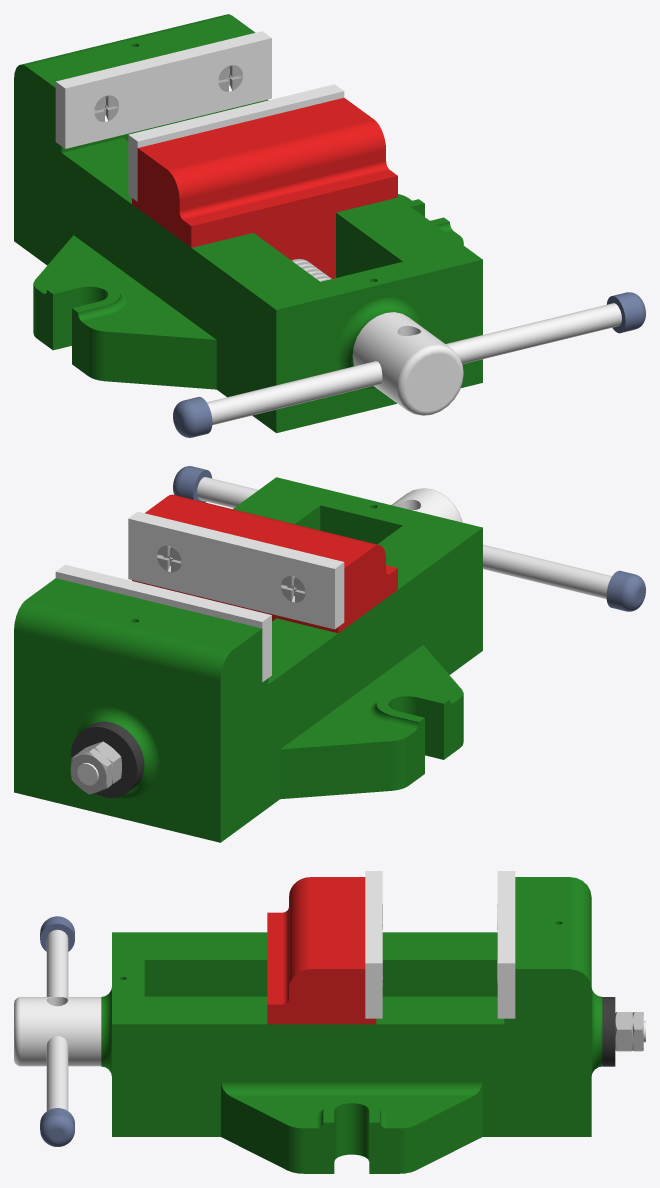
The picture shows the model from 3 angles, top to bottom: view 1: azimuth 30°, elevation 25°; view 2: azimuth 150°, elevation 25°; view 3: azimuth 270°, elevation 25°; orthographic projection. The views are drawn at different scales.
Visible parts, largest first — view 1: Solid2 (×8); view 2: Solid2 (×11); view 3: Solid2 (×11).
Part boxes in pixels (<box>): Solid2 (×8): <box>14,14,645,437</box>; Solid2 (×11): <box>14,466,645,842</box>; Solid2 (×11): <box>14,871,645,1173</box>.
Bounding box in the file's own units: 0.224 × 0.0963 × 0.29.
